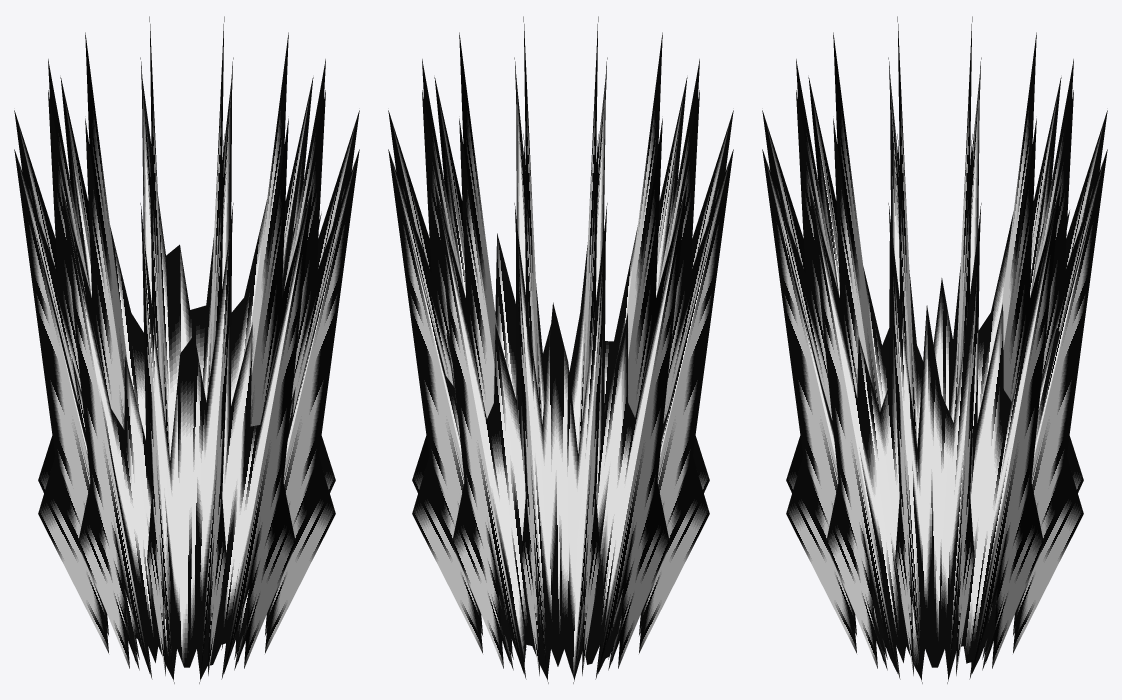
Rendered from EffCommonLandingSmoke.obj.
3 renders of one model, left to right at view 1: azimuth 30°, elevation 25°; view 2: azimuth 150°, elevation 25°; view 3: azimuth 270°, elevation 25°, orthographic.
Parts seen in each view (by area): view 1: polygon0; view 2: polygon0; view 3: polygon0.
Part boxes in pixels (x1=…): polygon0: x1=14, y1=16, x2=359, y2=683; polygon0: x1=388, y1=16, x2=733, y2=683; polygon0: x1=762, y1=16, x2=1107, y2=683.
Size of what is drawn, in the model's own units: 9.88 by 18.7 by 9.88.
1 material, 1 textured.
